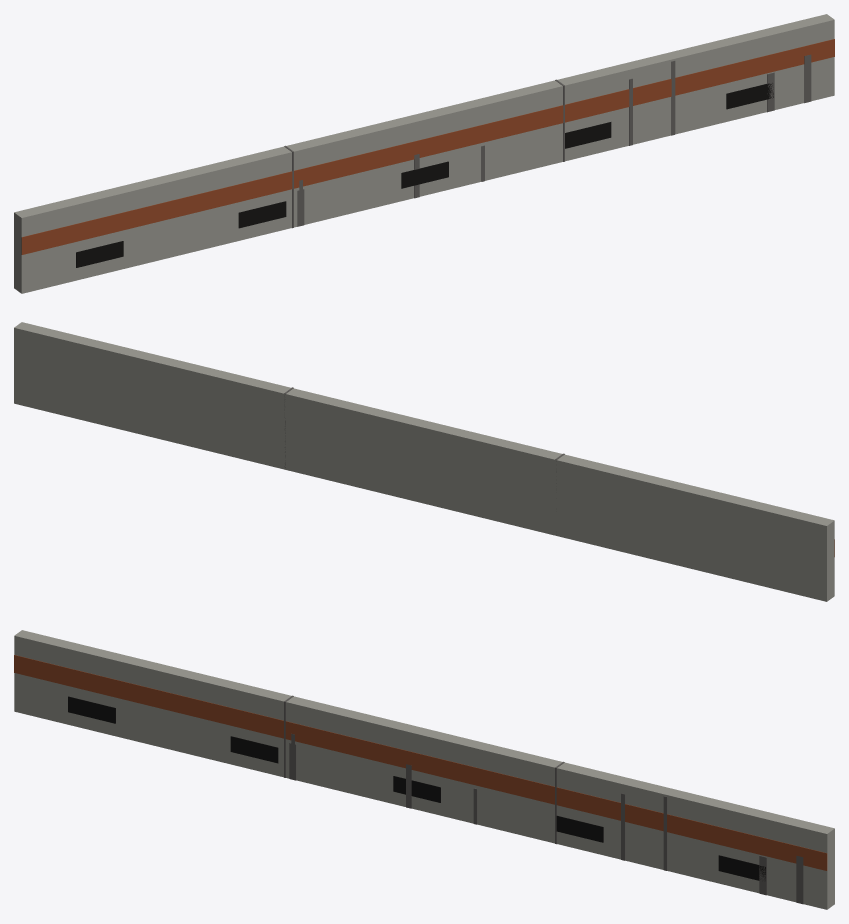
The model's file is garage_wall_ew.glb.
The picture shows the model from 3 angles, top to bottom: view 1: azimuth 30°, elevation 25°; view 2: azimuth 150°, elevation 25°; view 3: azimuth 330°, elevation 25°; orthographic projection.
Visible parts, largest first — view 1: garage_wall_ew_conc, garage_wall_ew_rustp, garage_wall_ew_black, garage_wall_ew_conc_d; view 2: garage_wall_ew_conc; view 3: garage_wall_ew_conc, garage_wall_ew_rustp, garage_wall_ew_black, garage_wall_ew_conc_d.
Boxes of the visible parts, <box> form: garage_wall_ew_conc: <box>14,14,834,293</box>; garage_wall_ew_rustp: <box>21,39,834,254</box>; garage_wall_ew_black: <box>76,83,773,267</box>; garage_wall_ew_conc_d: <box>284,54,811,228</box>; garage_wall_ew_conc: <box>14,322,834,601</box>; garage_wall_ew_conc: <box>14,630,834,909</box>; garage_wall_ew_rustp: <box>14,655,827,870</box>; garage_wall_ew_black: <box>68,696,765,880</box>; garage_wall_ew_conc_d: <box>284,695,803,904</box>.
Bounding box in the file's own units: 12 × 1.08 × 0.208.
